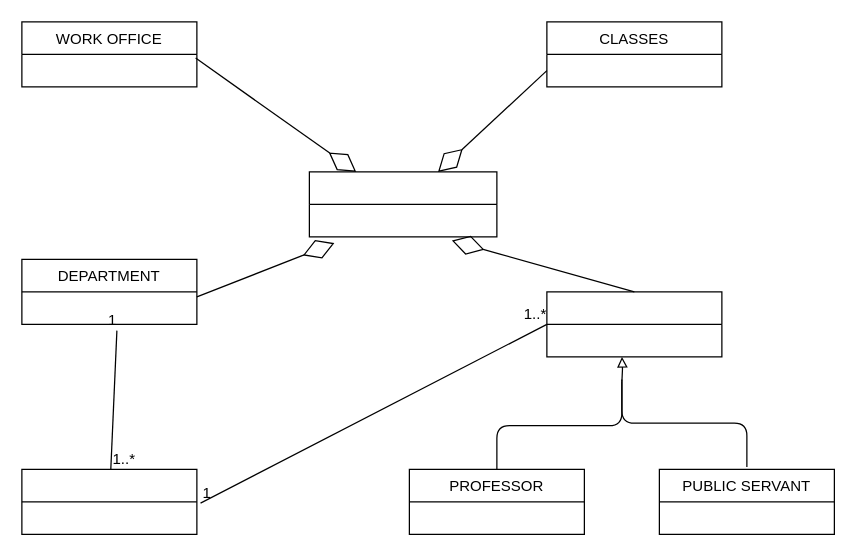
Some shapes in this 856 by 560 pixel diagram are drawn without their labels. Each missing label, with the box of its shape:
EMPLOYEE: (546, 291, 722, 357)
OFFICE: (21, 468, 197, 534)
UNIVERSITY: (308, 171, 497, 237)
